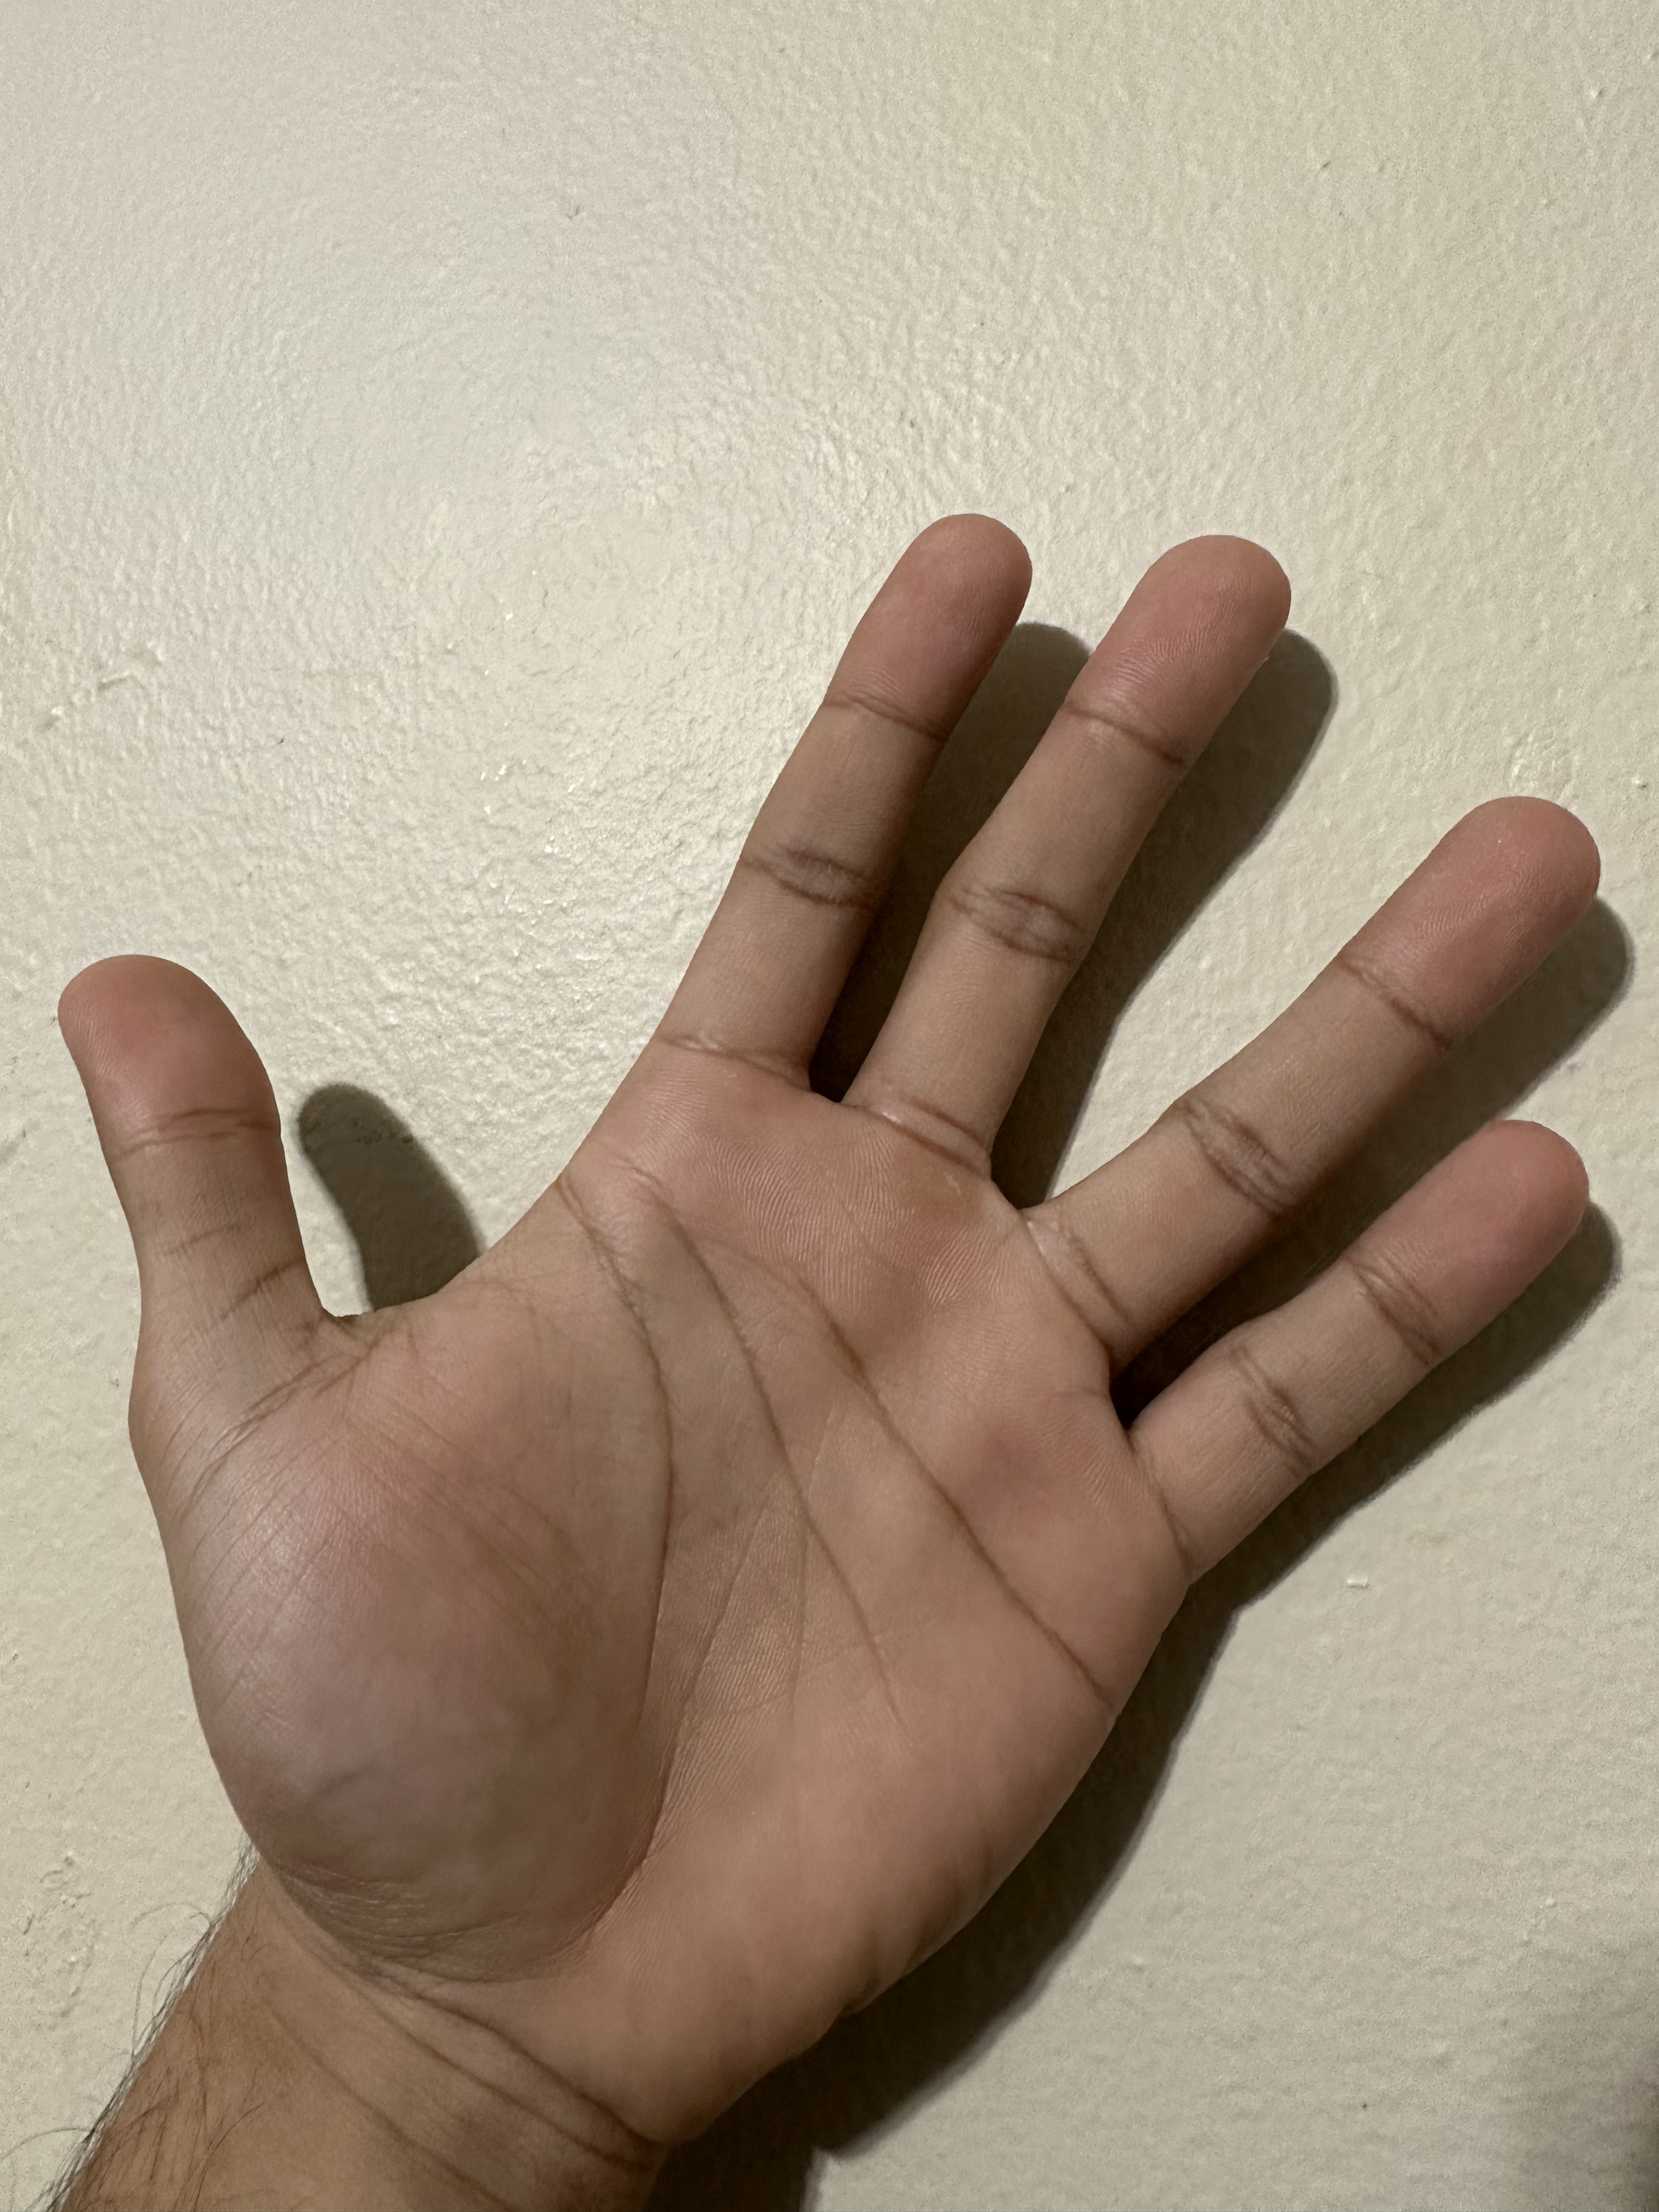finger: (1389, 754, 1619, 1049), (7, 916, 291, 1150), (1098, 491, 1312, 766), (1394, 1090, 1622, 1339), (845, 472, 1046, 725)
